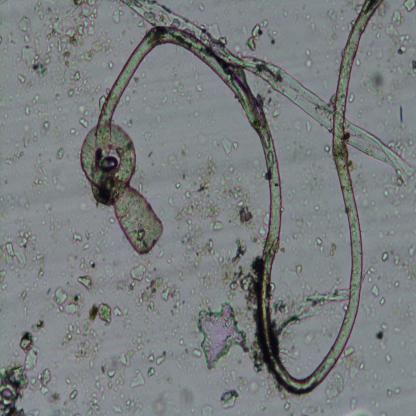Background material: (15, 0, 103, 92), (166, 157, 227, 266), (114, 262, 183, 318), (275, 176, 334, 234), (196, 302, 247, 368), (0, 330, 38, 415), (224, 237, 260, 308), (377, 286, 416, 338), (62, 320, 102, 370), (224, 183, 257, 232), (0, 229, 35, 273), (107, 348, 136, 391), (383, 9, 410, 55), (0, 184, 31, 222), (94, 241, 115, 292), (348, 170, 376, 208), (16, 113, 42, 151), (392, 246, 416, 285), (244, 17, 270, 53), (31, 157, 58, 191), (382, 174, 406, 210), (344, 346, 366, 384), (53, 290, 82, 318), (170, 86, 198, 110), (324, 372, 344, 405), (42, 212, 65, 240), (366, 66, 387, 96), (88, 303, 112, 326), (166, 334, 191, 354), (327, 7, 341, 42), (121, 394, 144, 414), (196, 272, 218, 292), (280, 347, 301, 367), (1, 147, 24, 165), (387, 139, 416, 153), (128, 368, 146, 390), (220, 135, 238, 157), (258, 212, 272, 240), (152, 394, 171, 414), (74, 229, 92, 250), (38, 368, 51, 396), (19, 14, 30, 46), (179, 389, 195, 411), (372, 283, 385, 309), (219, 388, 240, 404), (302, 43, 314, 70), (148, 348, 166, 366), (37, 118, 52, 139), (36, 252, 46, 281), (375, 321, 387, 344), (86, 396, 101, 414), (79, 256, 95, 272), (78, 272, 92, 290), (18, 292, 28, 317), (29, 318, 46, 332), (306, 10, 317, 30), (386, 384, 401, 398), (95, 380, 105, 400), (398, 106, 406, 131), (316, 236, 326, 255), (113, 9, 124, 26), (0, 268, 8, 291), (199, 402, 214, 414), (328, 240, 339, 256), (69, 387, 80, 403), (292, 220, 301, 239), (135, 331, 144, 350), (401, 0, 416, 11), (304, 117, 313, 134), (383, 350, 393, 364), (380, 249, 390, 263), (79, 116, 89, 130), (294, 261, 304, 275), (112, 305, 122, 319), (55, 146, 65, 160), (350, 394, 358, 410), (304, 144, 313, 158), (16, 74, 26, 86), (271, 108, 281, 120), (364, 305, 372, 319), (195, 82, 203, 96), (30, 95, 40, 106), (147, 367, 156, 379), (322, 144, 331, 156), (154, 112, 161, 125), (70, 127, 79, 137), (192, 348, 201, 358), (23, 105, 31, 116), (348, 92, 356, 103), (144, 130, 151, 142), (107, 60, 114, 71), (160, 96, 168, 105), (198, 3, 205, 13), (283, 401, 291, 409), (64, 378, 72, 386), (355, 58, 362, 67)
Cellulose filter fibre: (125, 0, 414, 181), (276, 276, 349, 342)
Microfibre: (80, 0, 382, 395)
